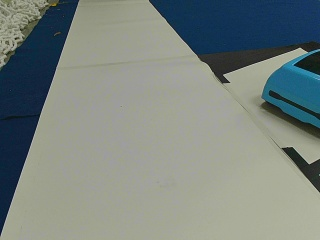car: (260, 47, 317, 128)
